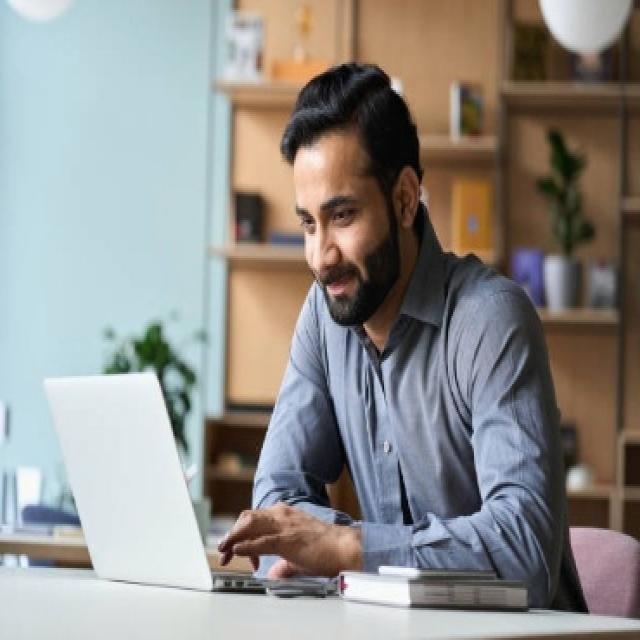adult: (220, 61, 574, 586)
